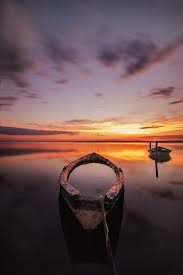boat: (59, 152, 125, 232), (147, 141, 172, 162)
